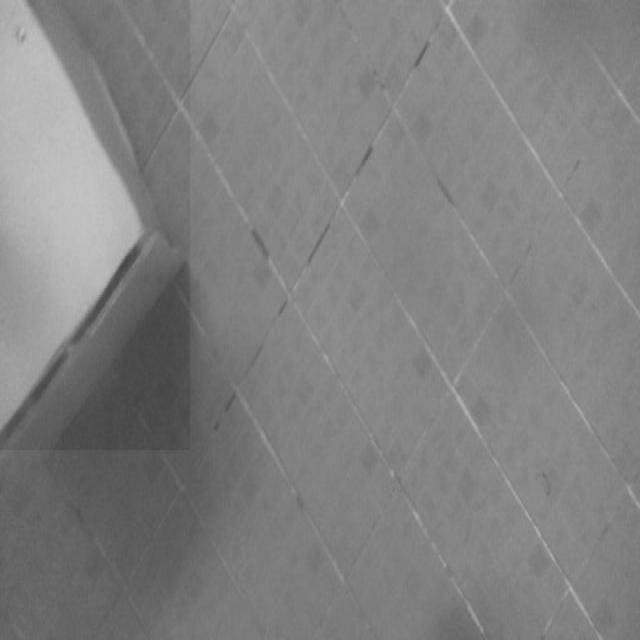Cube: (0, 0, 190, 450)
